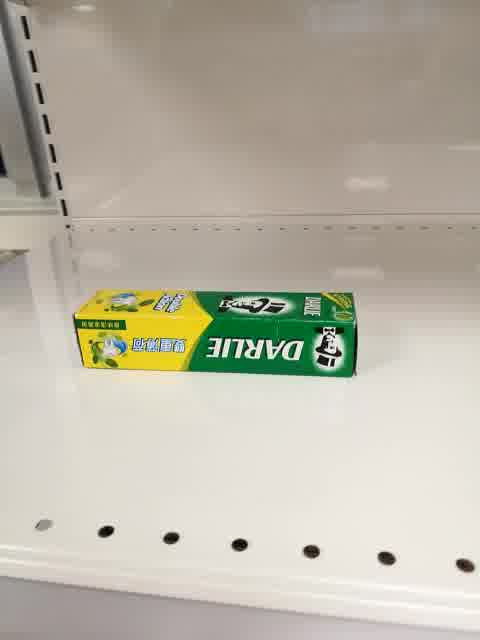toothpaste: (71, 288, 358, 377)
